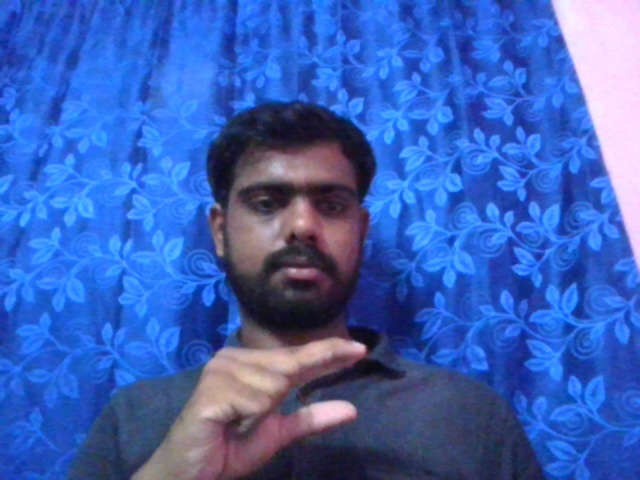No: (168, 330, 367, 471)
